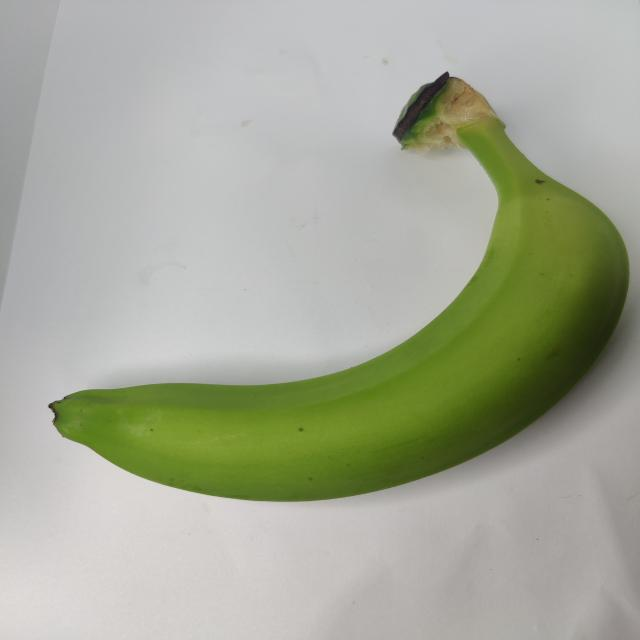raw: (38, 68, 640, 529)
